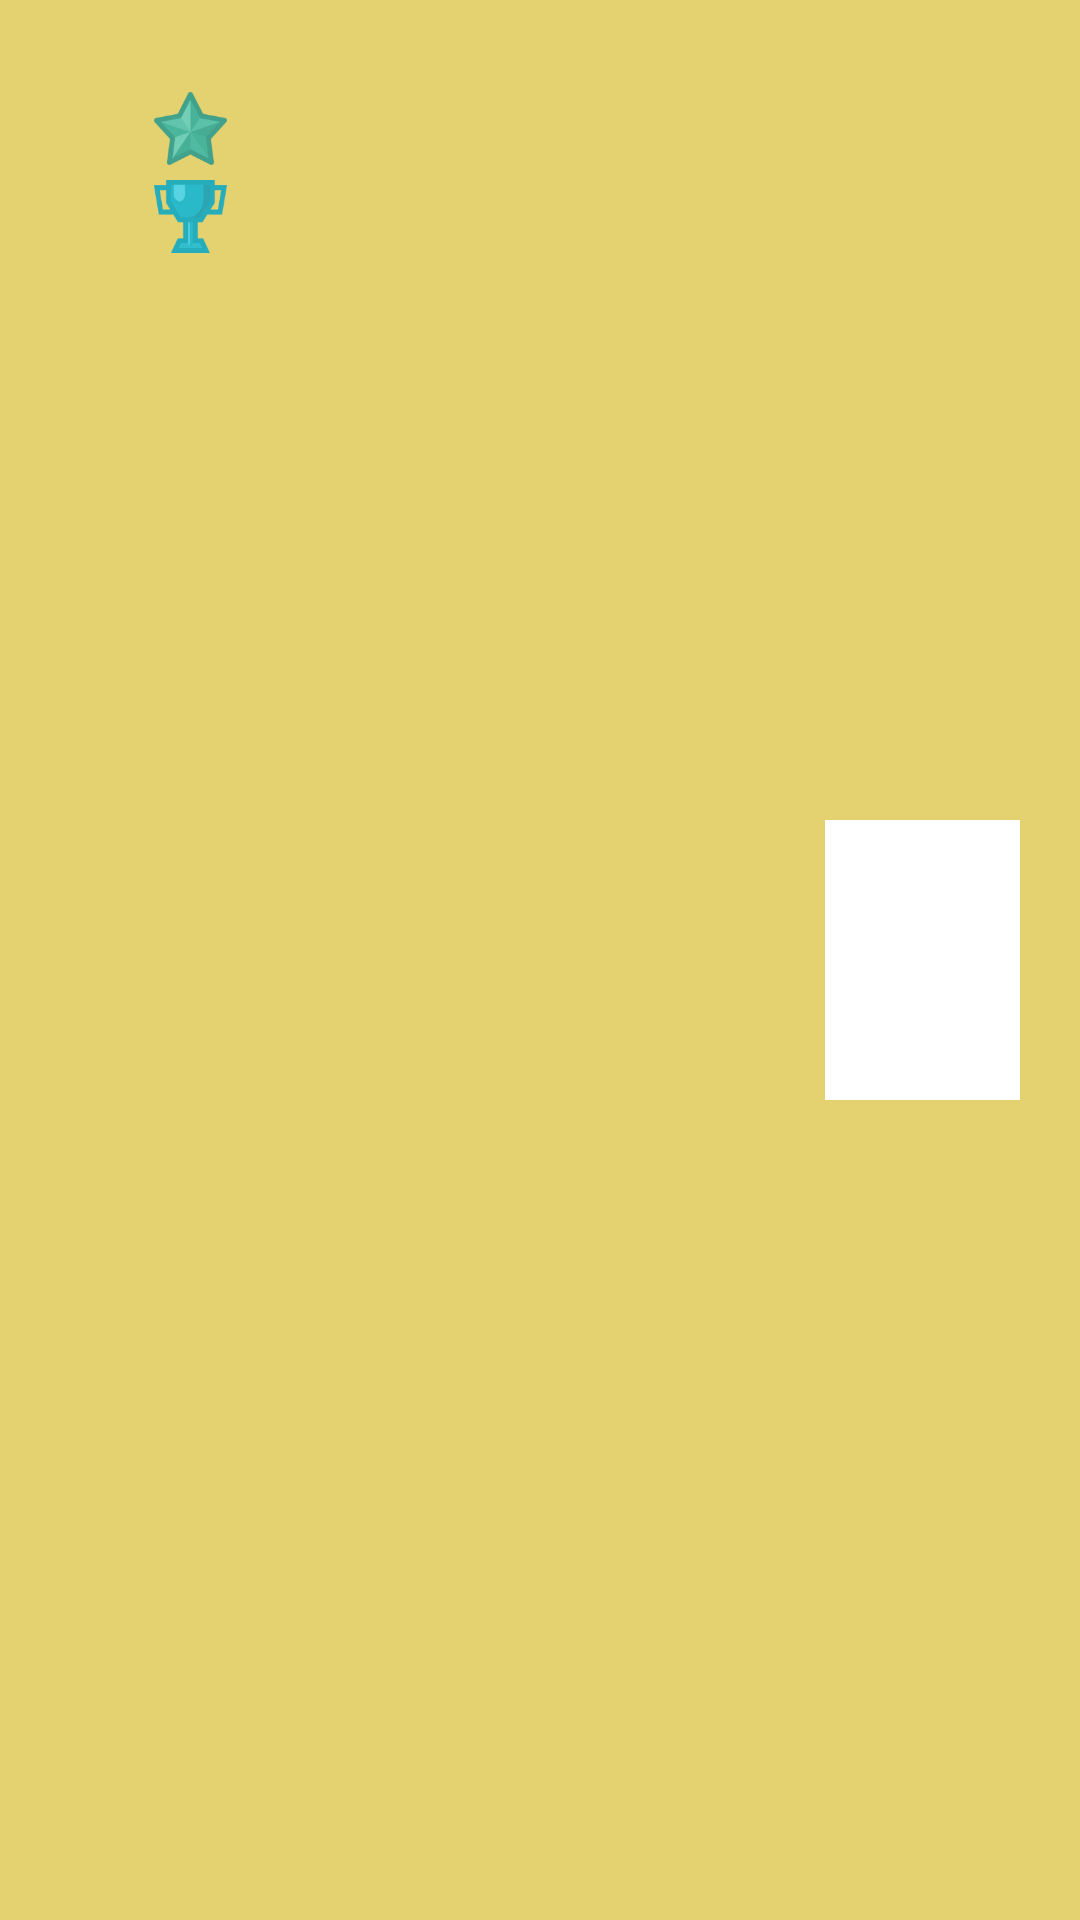

Icons on this 1080×1920 Android screen, each with its box as box=[x1, y1, x2, y2]:
star: box=[154, 92, 227, 165]
trophy: box=[154, 180, 227, 253]
